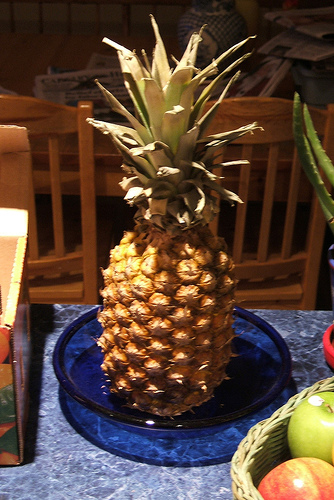pineapple: (82, 10, 268, 421)
